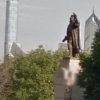Statue: (56, 8, 95, 57)
